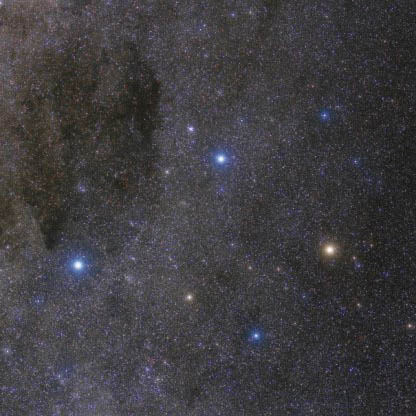Southern Cross: (201, 145, 233, 173), (319, 239, 350, 266), (65, 252, 89, 281), (237, 325, 265, 349)
